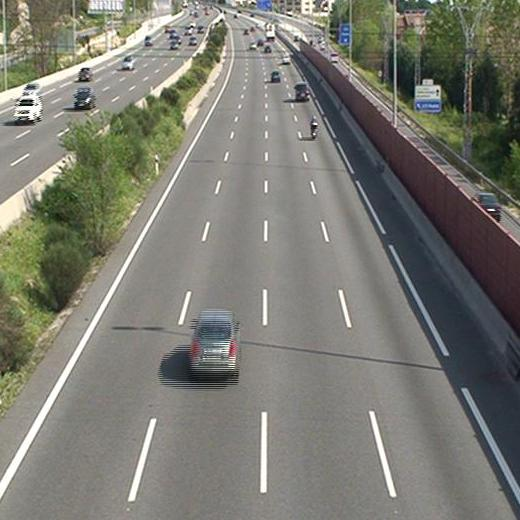car: (189, 310, 242, 378), (295, 84, 310, 100), (270, 71, 280, 83), (283, 54, 292, 63)
motorcycle: (309, 115, 319, 138)
